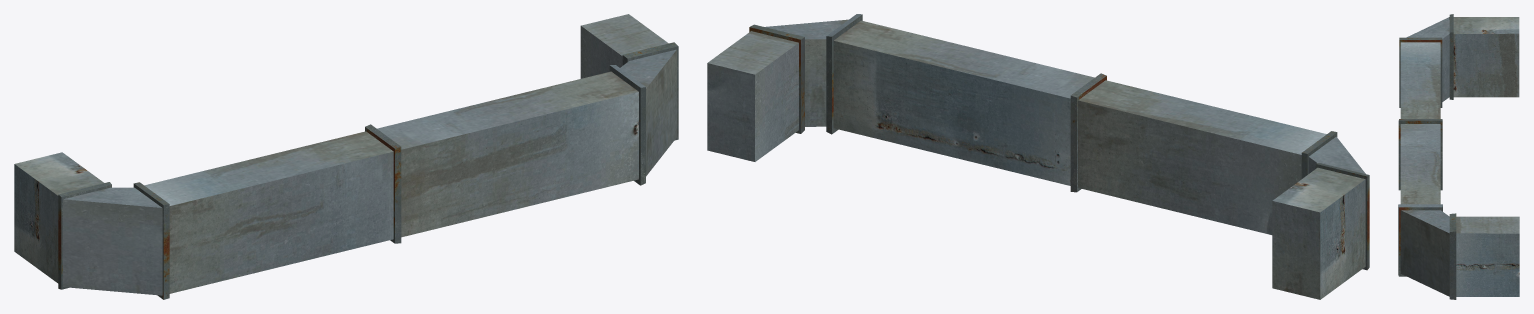
File: VentSystemSide.fbx
The picture shows the model from 3 angles, left to right: view 1: azimuth 30°, elevation 25°; view 2: azimuth 150°, elevation 25°; view 3: azimuth 270°, elevation 25°; orthographic projection. The views are drawn at different scales.
Visible parts, largest first — view 1: VentSystemSide; view 2: VentSystemSide; view 3: VentSystemSide.
Part boxes in pixels (<box>): VentSystemSide: <box>14,14,678,299</box>; VentSystemSide: <box>707,14,1369,299</box>; VentSystemSide: <box>1398,14,1519,299</box>.
Size of the model in its own units: 3.31 by 0.7792 by 0.5023.
